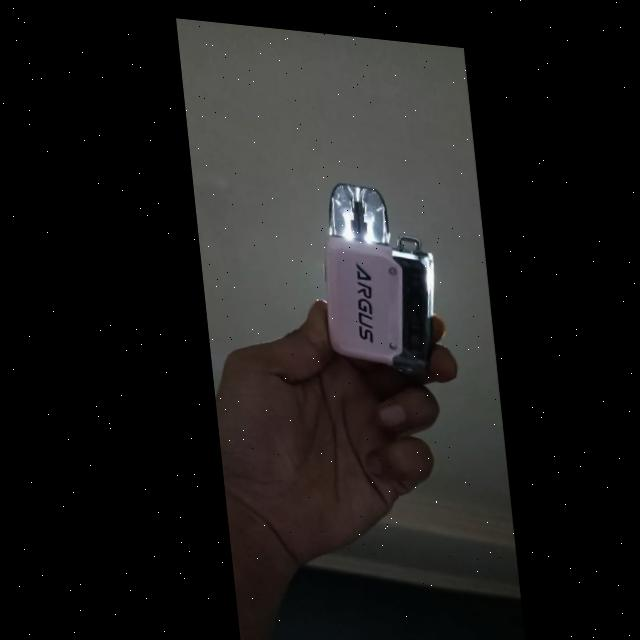vape: (309, 173, 440, 359)
